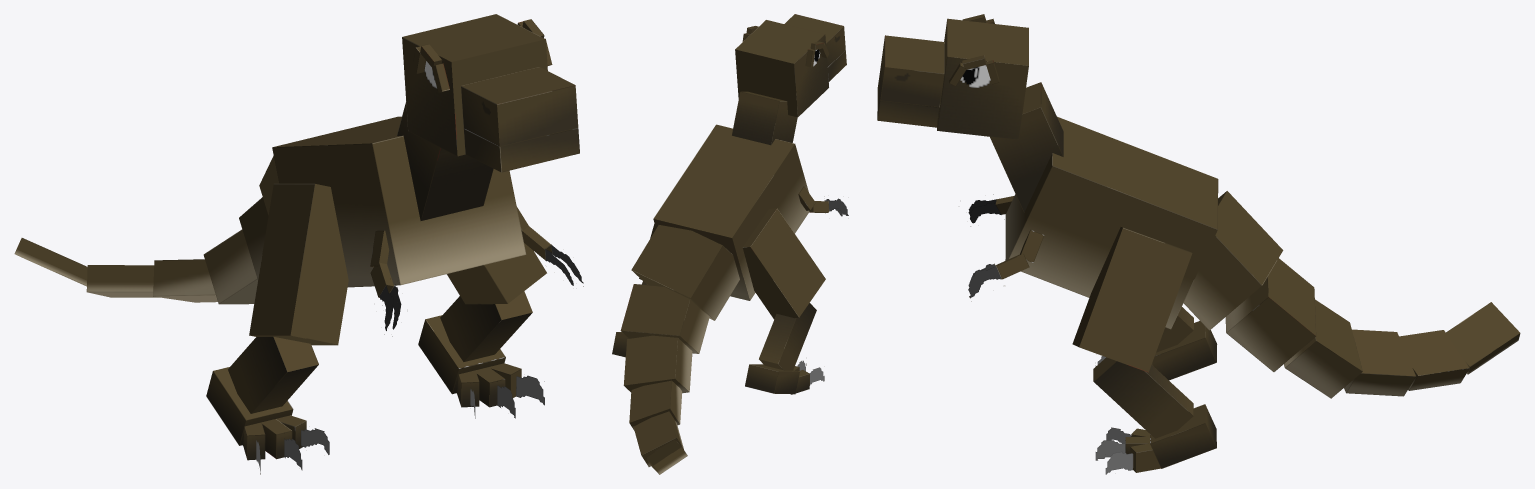
The model's file is animateddinosaur41.obj.
3 renders of one model, left to right at view 1: azimuth 30°, elevation 25°; view 2: azimuth 150°, elevation 25°; view 3: azimuth 270°, elevation 25°, orthographic. The views are drawn at different scales.
Parts seen in each view (by area): view 1: Object_6, Object_9, Object_64, Object_56, Object_53, Object_12, Object_34, Object_31, Object_79, Object_98, Object_101, Object_37 (+8 smaller); view 2: Object_6, Object_64, Object_92, Object_9, Object_95, Object_98, Object_53, Object_12, Object_101, Object_104, Object_15, Object_56 (+4 smaller); view 3: Object_6, Object_31, Object_64, Object_92, Object_95, Object_34, Object_53, Object_56, Object_98, Object_101, Object_104, Object_107 (+4 smaller).
Boxes of the visible parts, x1,y1,x2,y2 form: Object_6: (272, 116, 526, 287); Object_9: (249, 183, 348, 345); Object_64: (402, 14, 547, 156); Object_56: (461, 67, 578, 146); Object_53: (397, 101, 493, 220); Object_12: (228, 336, 318, 413); Object_34: (440, 291, 532, 361); Object_31: (447, 243, 546, 304); Object_79: (463, 128, 579, 172); Object_98: (203, 229, 257, 304); Object_101: (153, 259, 217, 302); Object_37: (418, 315, 505, 394); Object_6: (653, 124, 809, 300); Object_64: (735, 20, 828, 117); Object_92: (631, 225, 739, 320); Object_9: (742, 208, 825, 319); Object_95: (620, 284, 709, 353); Object_98: (623, 335, 692, 393); Object_53: (732, 91, 797, 145); Object_12: (759, 303, 816, 370); Object_101: (629, 380, 682, 430); Object_104: (633, 411, 683, 466); Object_15: (745, 364, 799, 394); Object_56: (784, 14, 845, 67); Object_6: (1005, 116, 1218, 329); Object_31: (1072, 227, 1192, 372); Object_64: (937, 18, 1028, 139); Object_92: (1183, 191, 1283, 330); Object_95: (1225, 258, 1316, 371); Object_34: (1093, 357, 1193, 438); Object_53: (990, 82, 1063, 212); Object_56: (880, 35, 944, 107); Object_98: (1284, 299, 1362, 398); Object_101: (1344, 329, 1415, 396); Object_104: (1399, 330, 1469, 390); Object_107: (1446, 302, 1520, 374).
Size of the model in its own units: 2.37 by 3.51 by 5.36.
